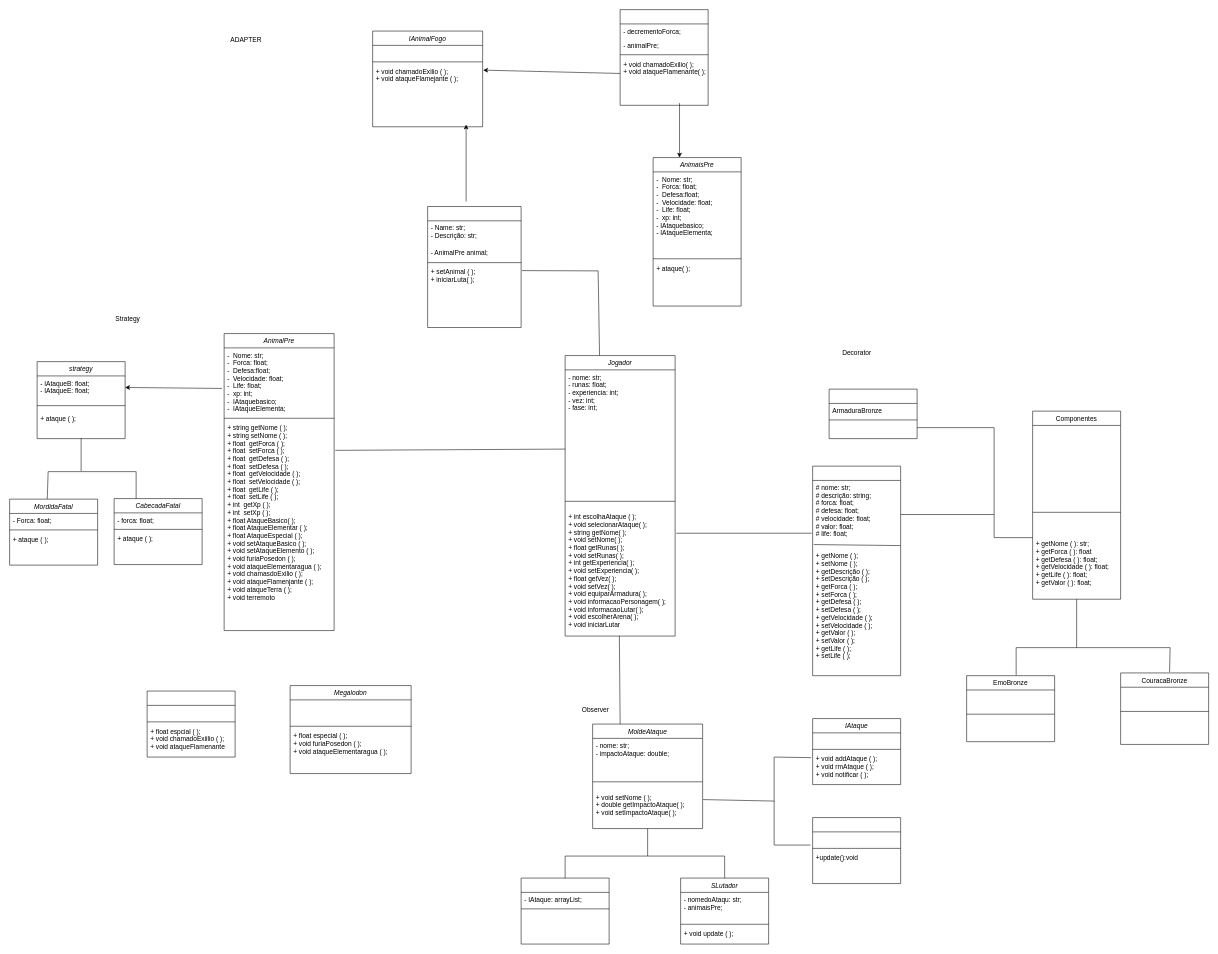
Image size: 1218x954. Some labels were removed from this diagram. The shapes that lost their labels are listed below. From the top down, each one's box as (x1, y1, x2, y2) in pixels, then its label:
(620, 9, 708, 105): RunaFogo
(427, 206, 521, 328): ArenaFogo
(829, 389, 917, 439): ComponeteConcreto
(812, 466, 901, 676): Armadura
(147, 691, 235, 757): Raposa
(812, 817, 901, 884): ILutador
(521, 878, 609, 944): SAtaque
